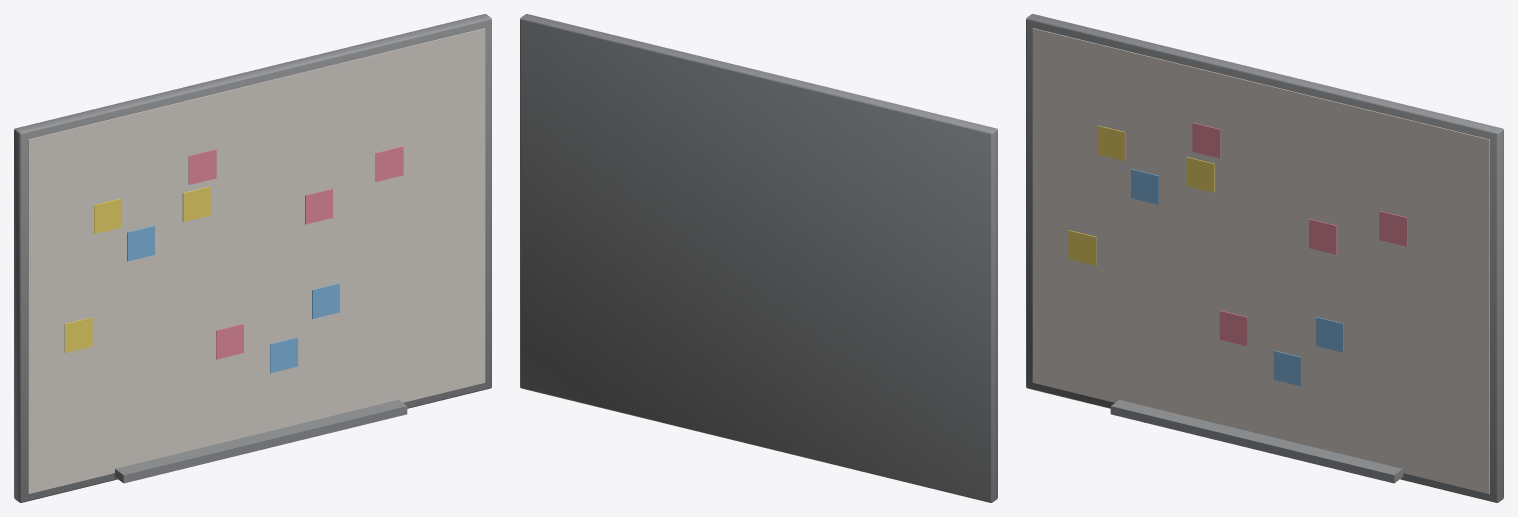
File: tech.wall-board.glb
3 renders of one model, left to right at view 1: azimuth 30°, elevation 25°; view 2: azimuth 150°, elevation 25°; view 3: azimuth 330°, elevation 25°, orthographic.
Visible parts, largest first — view 1: tech.wall-board.001; view 2: tech.wall-board.001; view 3: tech.wall-board.001.
Part boxes in pixels (x1,y1,x2,y2): tech.wall-board.001: [14, 14, 491, 502]; tech.wall-board.001: [520, 14, 997, 502]; tech.wall-board.001: [1026, 14, 1503, 502].
Size of the model in its own units: 1.2 by 0.9 by 0.07.
